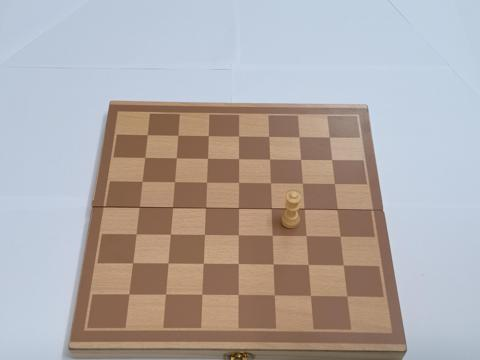xcorner: (134, 203, 144, 213), (171, 154, 181, 164), (169, 178, 179, 188), (202, 154, 212, 164), (201, 178, 211, 188), (233, 204, 243, 214), (233, 231, 243, 241), (264, 132, 274, 142), (268, 260, 278, 270), (143, 131, 152, 141), (137, 178, 147, 187), (131, 230, 140, 240), (173, 132, 183, 141), (167, 204, 177, 213), (165, 231, 175, 240), (163, 259, 172, 269), (160, 290, 170, 299), (203, 132, 213, 141), (200, 204, 210, 213), (199, 231, 209, 240), (197, 290, 206, 300), (233, 260, 243, 269), (266, 205, 276, 214), (267, 232, 277, 241), (269, 291, 279, 300), (294, 133, 304, 142), (296, 155, 305, 165), (298, 179, 307, 189), (301, 232, 311, 241), (306, 291, 315, 301), (327, 156, 337, 165), (333, 205, 342, 215), (336, 232, 345, 242), (140, 154, 149, 163), (128, 259, 137, 268), (124, 290, 133, 299), (198, 260, 207, 269), (234, 132, 243, 141), (234, 155, 243, 164), (234, 179, 243, 188), (233, 291, 242, 300), (265, 155, 274, 164), (266, 179, 275, 188), (300, 205, 309, 214), (304, 261, 313, 270), (325, 133, 334, 142), (330, 180, 339, 189), (339, 261, 348, 270), (342, 292, 351, 301)
